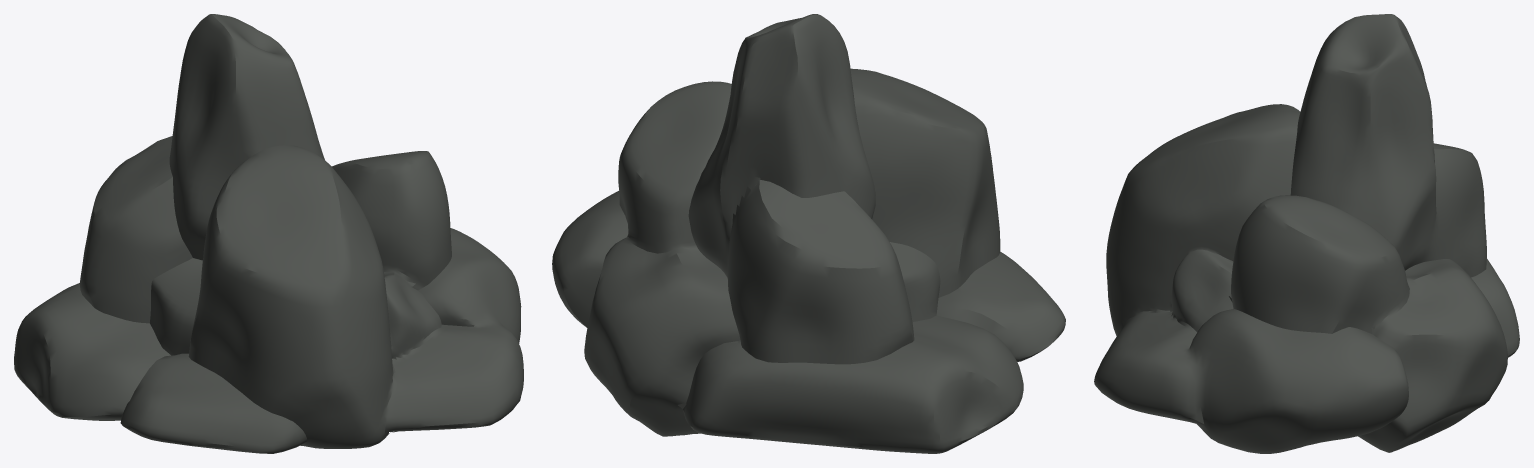
File: rocks-3.glb
The picture shows the model from 3 angles, left to right: view 1: azimuth 30°, elevation 25°; view 2: azimuth 150°, elevation 25°; view 3: azimuth 270°, elevation 25°; orthographic projection. The views are drawn at different scales.
Parts seen in each view (by area): view 1: Environment_Cliff2; view 2: Environment_Cliff2; view 3: Environment_Cliff2.
Part boxes in pixels (x1=…): Environment_Cliff2: x1=14, y1=14, x2=523, y2=453; Environment_Cliff2: x1=552, y1=14, x2=1065, y2=453; Environment_Cliff2: x1=1094, y1=14, x2=1519, y2=453.
Size of the model in its own units: 8 by 6.91 by 7.11.
1 material, 1 textured.
